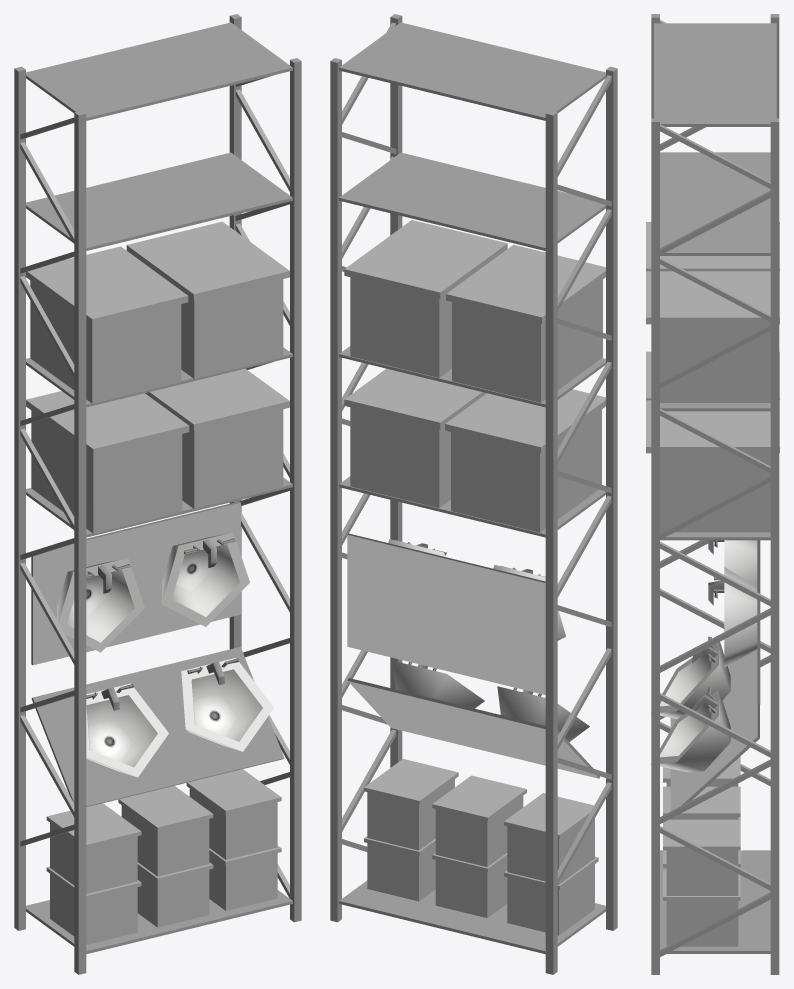
Rendered from sinkDisplay.fbx.
The picture shows the model from 3 angles, left to right: view 1: azimuth 30°, elevation 25°; view 2: azimuth 150°, elevation 25°; view 3: azimuth 270°, elevation 25°; orthographic projection.
Visible parts, largest first — view 1: Industrial_Rack3, StorageBox38, StorageBox39, StorageBox37, StorageBox36, BathroomSink, StorageBox32, BathroomSink2, StorageBox33, BathroomSink3, StorageBox31, BathroomSink1 (+3 smaller); view 2: Industrial_Rack3, StorageBox38, StorageBox39, StorageBox37, StorageBox36, StorageBox32, StorageBox33, StorageBox31, StorageBox28, StorageBox29, StorageBox30, BathroomSink (+1 smaller); view 3: Industrial_Rack3, StorageBox37, StorageBox36, StorageBox33, BathroomSink, StorageBox30, BathroomSink3, BathroomSink2, StorageBox38, StorageBox32, BathroomSink1, StorageBox31 (+1 smaller).
Boxes of the visible parts, x1=… form: Industrial_Rack3: x1=14, y1=14, x2=301, y2=974; StorageBox38: x1=26, y1=246, x2=188, y2=403; StorageBox39: x1=26, y1=391, x2=189, y2=533; StorageBox37: x1=126, y1=221, x2=289, y2=378; StorageBox36: x1=145, y1=368, x2=289, y2=508; BathroomSink: x1=181, y1=658, x2=273, y2=751; StorageBox32: x1=118, y1=786, x2=213, y2=876; BathroomSink2: x1=161, y1=532, x2=249, y2=626; StorageBox33: x1=186, y1=769, x2=281, y2=859; BathroomSink3: x1=86, y1=683, x2=168, y2=777; StorageBox31: x1=46, y1=803, x2=141, y2=893; BathroomSink1: x1=56, y1=558, x2=144, y2=652; Industrial_Rack3: x1=330, y1=14, x2=617, y2=974; StorageBox38: x1=446, y1=244, x2=605, y2=402; StorageBox39: x1=445, y1=389, x2=605, y2=532; StorageBox37: x1=344, y1=220, x2=507, y2=377; StorageBox36: x1=344, y1=368, x2=486, y2=507; StorageBox32: x1=432, y1=775, x2=526, y2=866; StorageBox33: x1=364, y1=759, x2=458, y2=850; StorageBox31: x1=504, y1=793, x2=594, y2=884; StorageBox28: x1=504, y1=856, x2=598, y2=935; StorageBox29: x1=432, y1=853, x2=507, y2=917; StorageBox30: x1=364, y1=836, x2=435, y2=901; BathroomSink: x1=392, y1=660, x2=484, y2=708; Industrial_Rack3: x1=651, y1=14, x2=779, y2=974; StorageBox37: x1=646, y1=271, x2=779, y2=402; StorageBox36: x1=646, y1=400, x2=779, y2=532; StorageBox33: x1=663, y1=819, x2=740, y2=895; BathroomSink: x1=651, y1=687, x2=730, y2=772; StorageBox30: x1=663, y1=870, x2=740, y2=946; BathroomSink3: x1=651, y1=636, x2=730, y2=718; BathroomSink2: x1=708, y1=567, x2=757, y2=667; StorageBox38: x1=646, y1=222, x2=779, y2=271; StorageBox32: x1=663, y1=786, x2=740, y2=819; BathroomSink1: x1=708, y1=540, x2=757, y2=586; StorageBox31: x1=663, y1=756, x2=740, y2=786.
Bounding box in the file's own units: 2 × 7.37 × 1.05.
